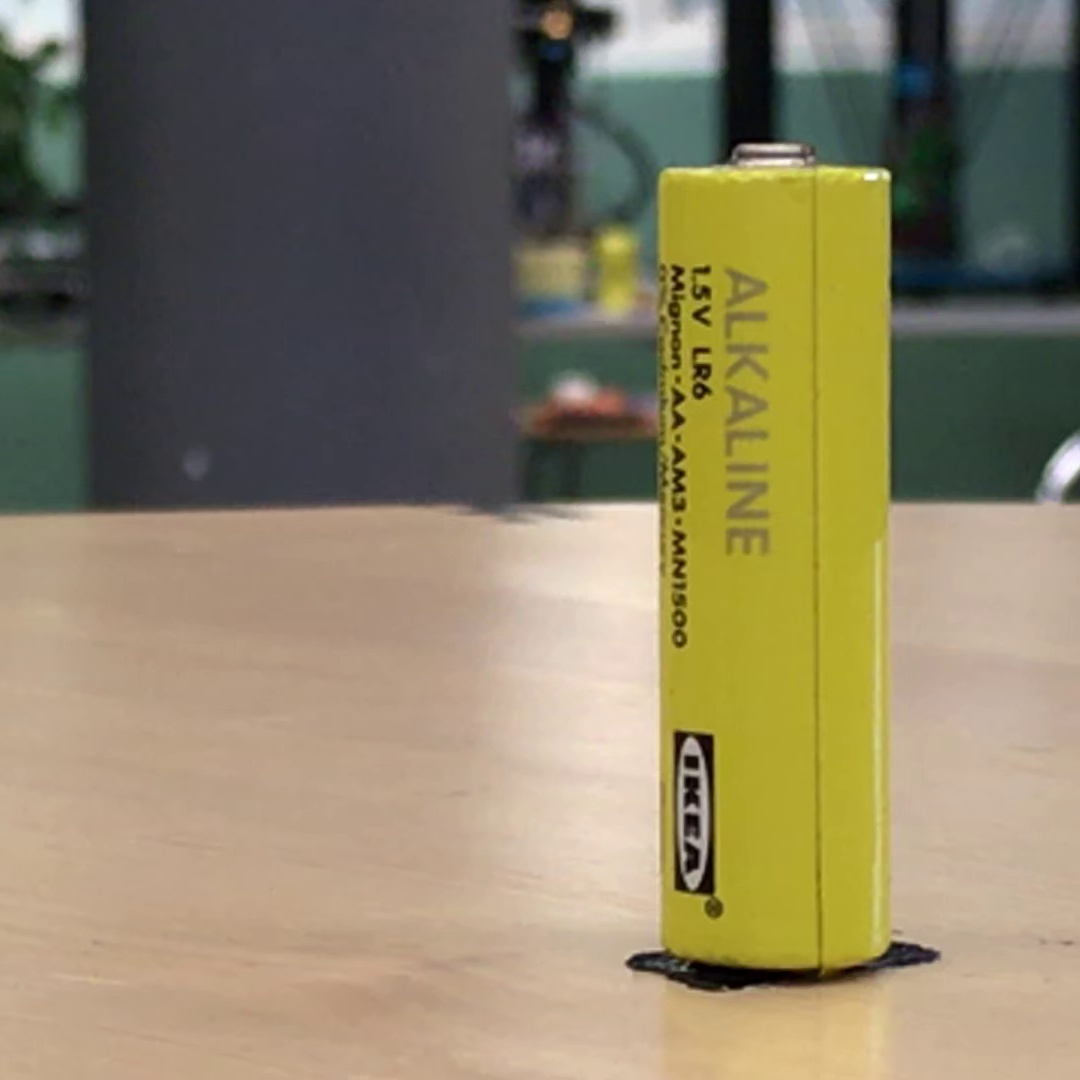keyword: (717, 261, 776, 559)
